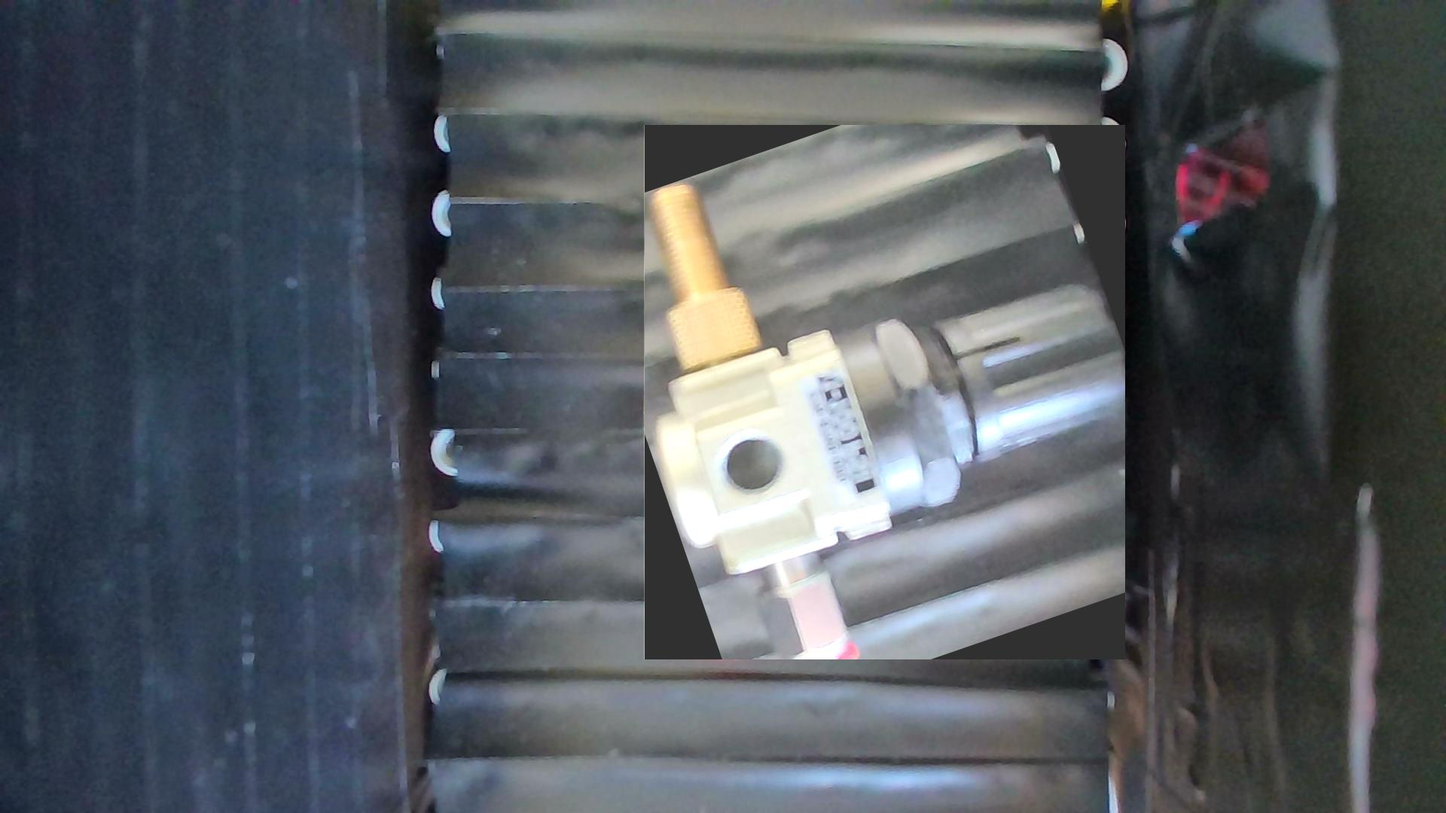regulator: (643, 125, 1125, 660)
